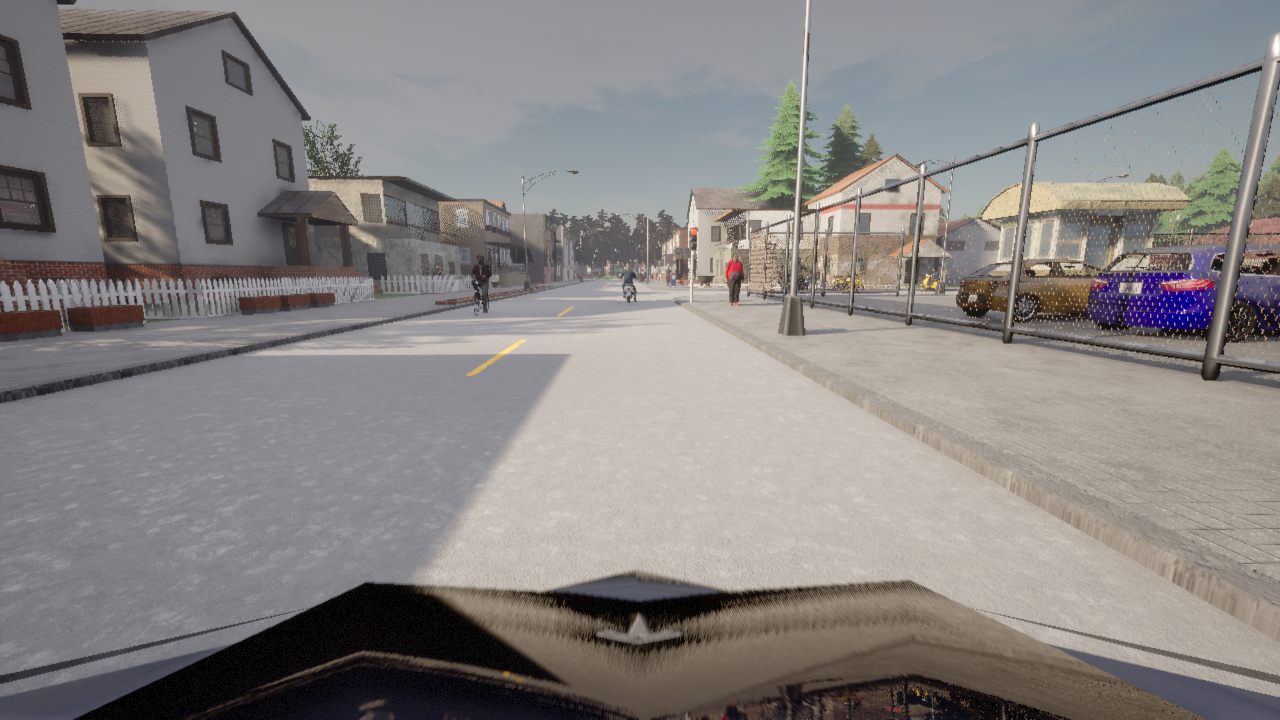cyclist: (0, 569, 1279, 719), (1085, 243, 1279, 342), (956, 259, 1102, 322), (774, 274, 807, 290), (619, 273, 637, 302), (474, 281, 488, 315), (832, 275, 863, 290), (919, 274, 937, 290), (770, 281, 789, 290), (807, 277, 821, 288)
pedestrian: (725, 254, 743, 305), (665, 266, 670, 285)
